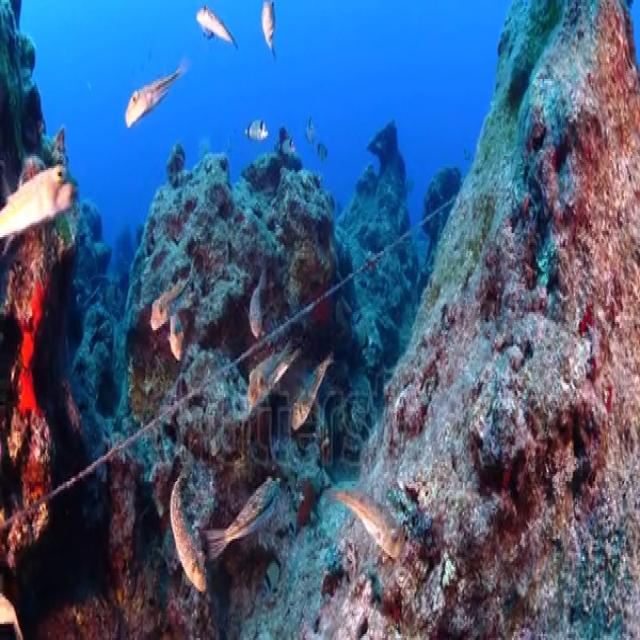Balon Baligi: (202, 470, 283, 566), (0, 155, 70, 257), (328, 489, 407, 560), (172, 465, 208, 598), (246, 332, 302, 407), (126, 64, 179, 129), (148, 260, 197, 329), (200, 0, 240, 56), (259, 0, 281, 60)
